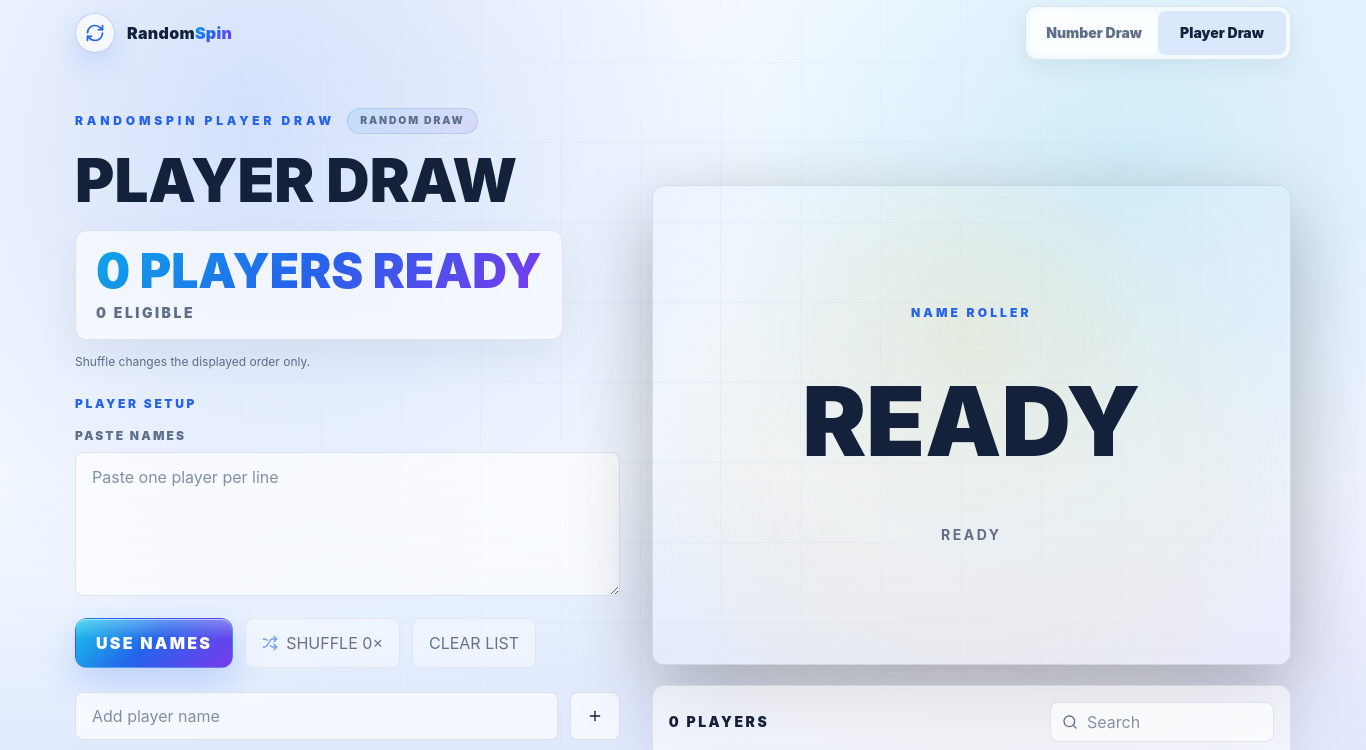
Test: RandomSpin Player Draw public experience › manual add still creates a distinct player with an optional reference
In the field with placeholder "Add player name": coordinates (316, 716) [75,692,558,740], type "Mina Park"
(page scrolled)
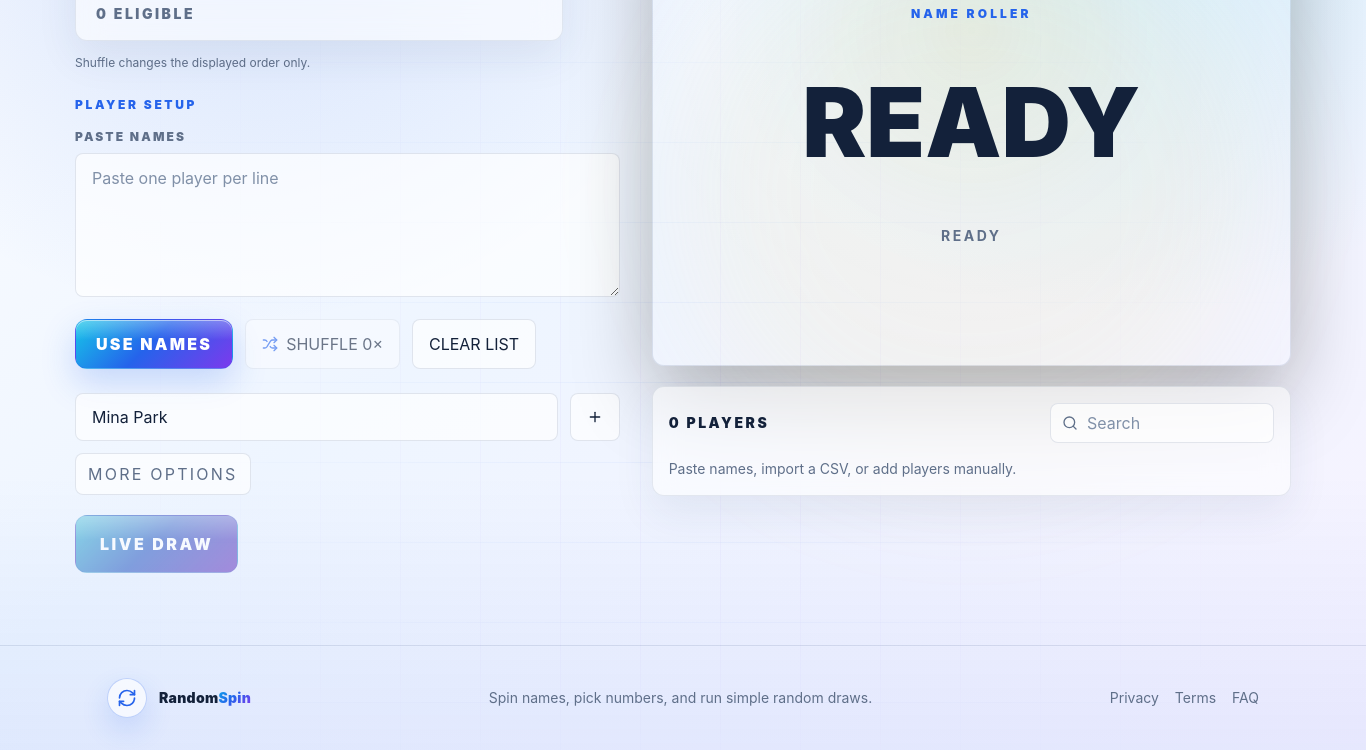
Expected: the field with placeholder "Reference (optional)" is not shown
Click the button "MORE OPTIONS": coordinates (163, 474) [75,453,251,495]
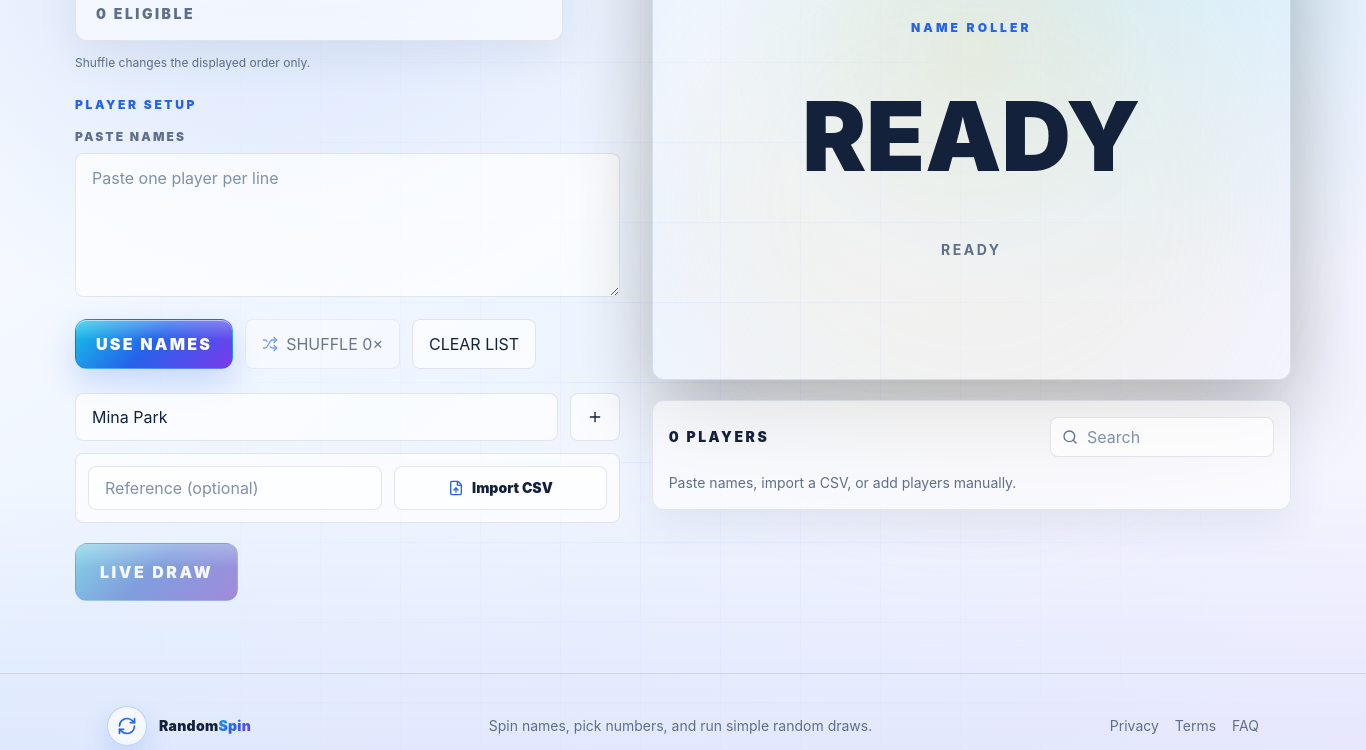
In the field with placeholder "Reference (optional)": coordinates (235, 488) [88,466,382,510], type "VIP-7"
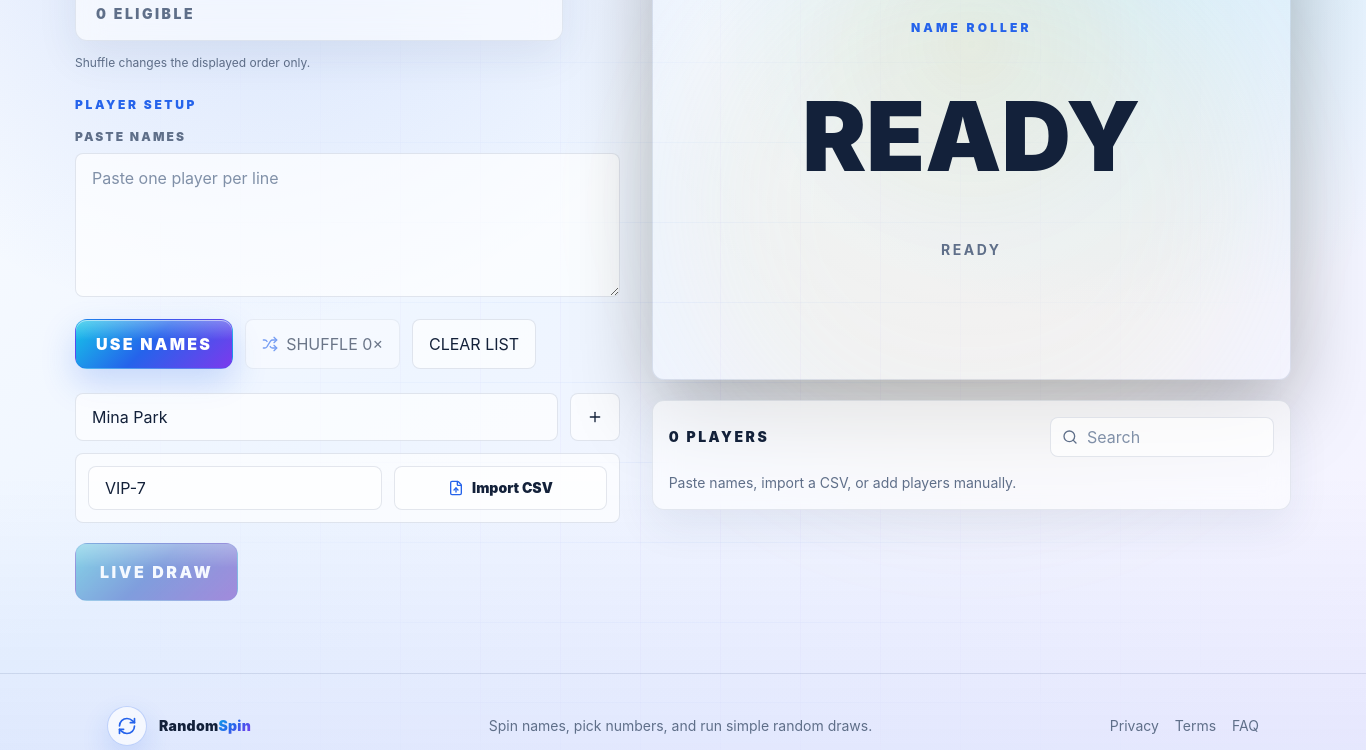
Click the button named "Add participant": coordinates (595, 417) [570,393,620,441]
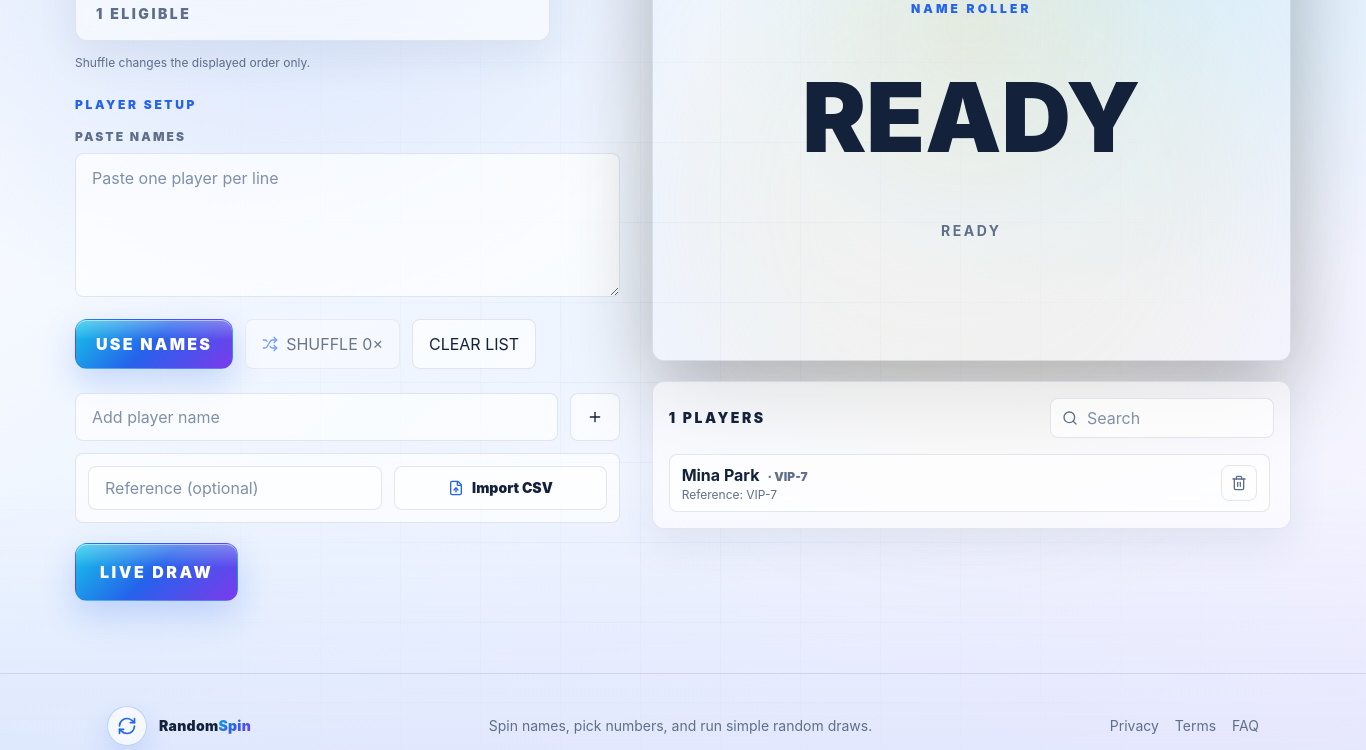
Result: the text "Mina Park" is shown at [682,465,759,485]
Result: the text "Reference: VIP-7" is shown at [682,487,777,502]
